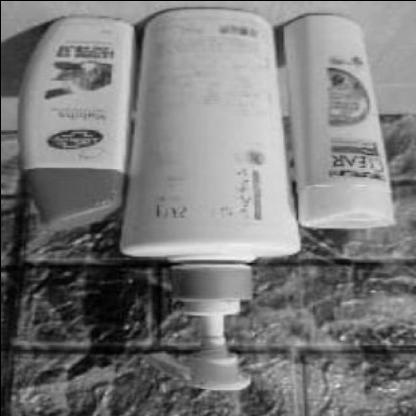objects: (15, 10, 130, 228), (285, 17, 386, 226)
